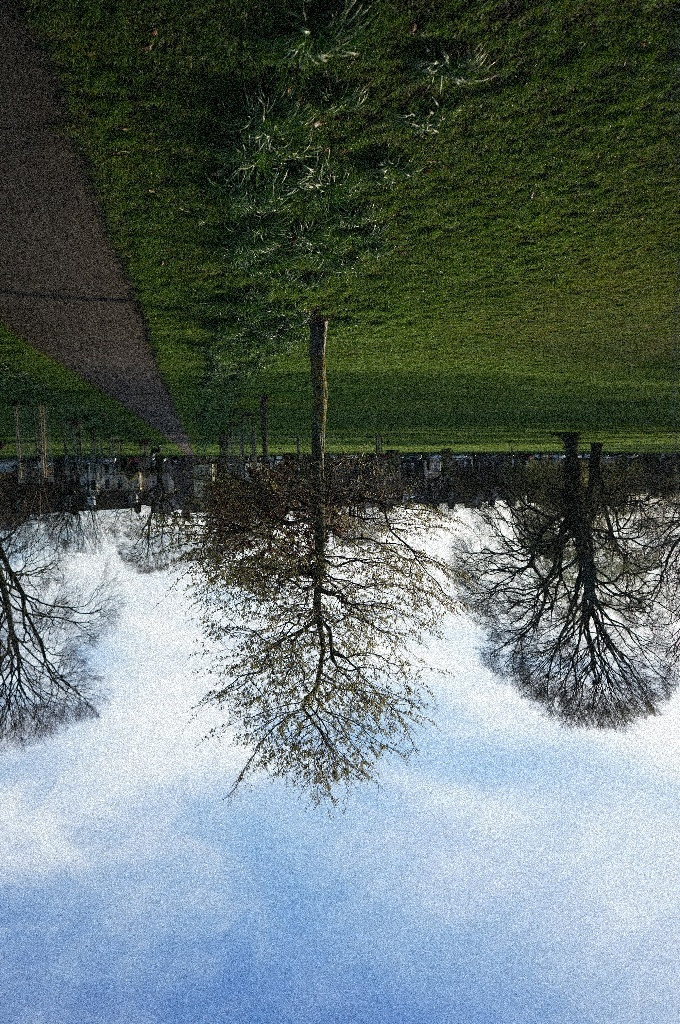Tree: (99, 237, 574, 915), (0, 518, 90, 881), (559, 418, 679, 612)
